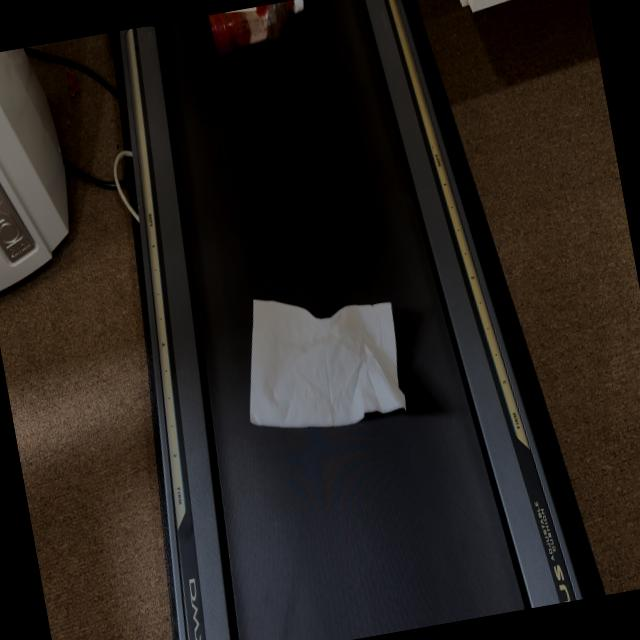Recycle: (228, 272, 412, 441)
Trash: (205, 0, 311, 52)
